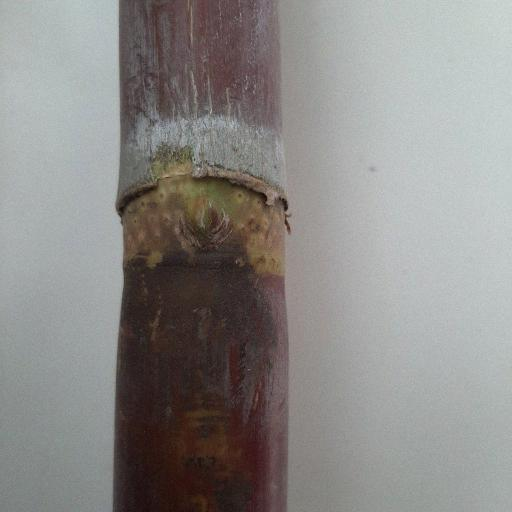Bud: (189, 197, 227, 242)
